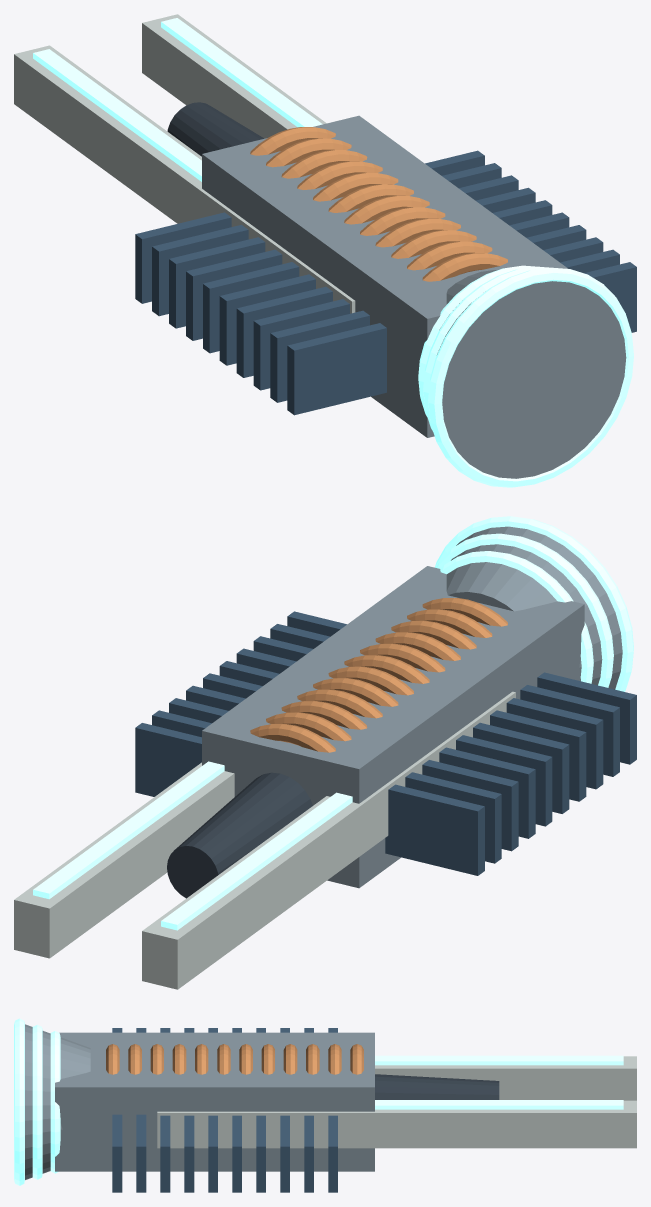
File: Railgun.glb
3 views of the same model, one above another, from view 1: azimuth 30°, elevation 25°; view 2: azimuth 150°, elevation 25°; view 3: azimuth 270°, elevation 25° (orthographic). The views are drawn at different scales.
Visible parts, largest first — view 1: CarriageAndRails, WarpEngine; view 2: CarriageAndRails, WarpEngine; view 3: CarriageAndRails, WarpEngine.
Boxes of the visible parts, x1,y1,x2,y2 form: CarriageAndRails: (14, 14, 636, 437); WarpEngine: (418, 265, 633, 487); CarriageAndRails: (14, 566, 636, 989); WarpEngine: (434, 516, 633, 691); CarriageAndRails: (55, 1028, 636, 1192); WarpEngine: (14, 1018, 90, 1185).
Size of the model in its own units: 3.16 by 1.89 by 7.01.
